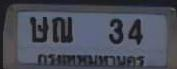3: (108, 17, 122, 43)
4: (127, 18, 142, 44)
A19: (51, 16, 72, 42)
A39: (29, 16, 48, 42)
BKK: (33, 51, 147, 69)
